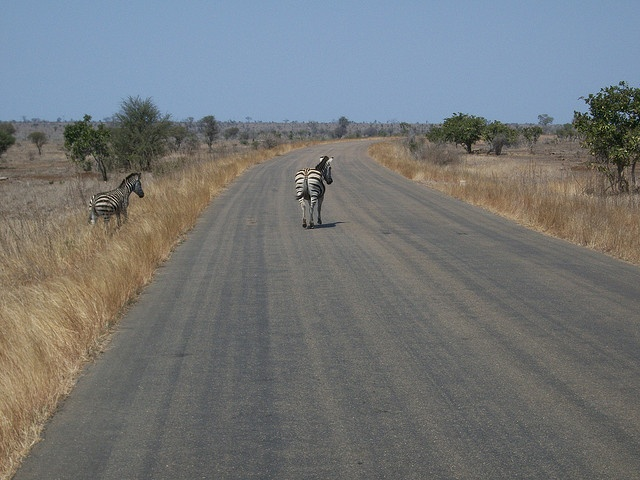zebra: (87, 171, 145, 237), (294, 154, 334, 229)
